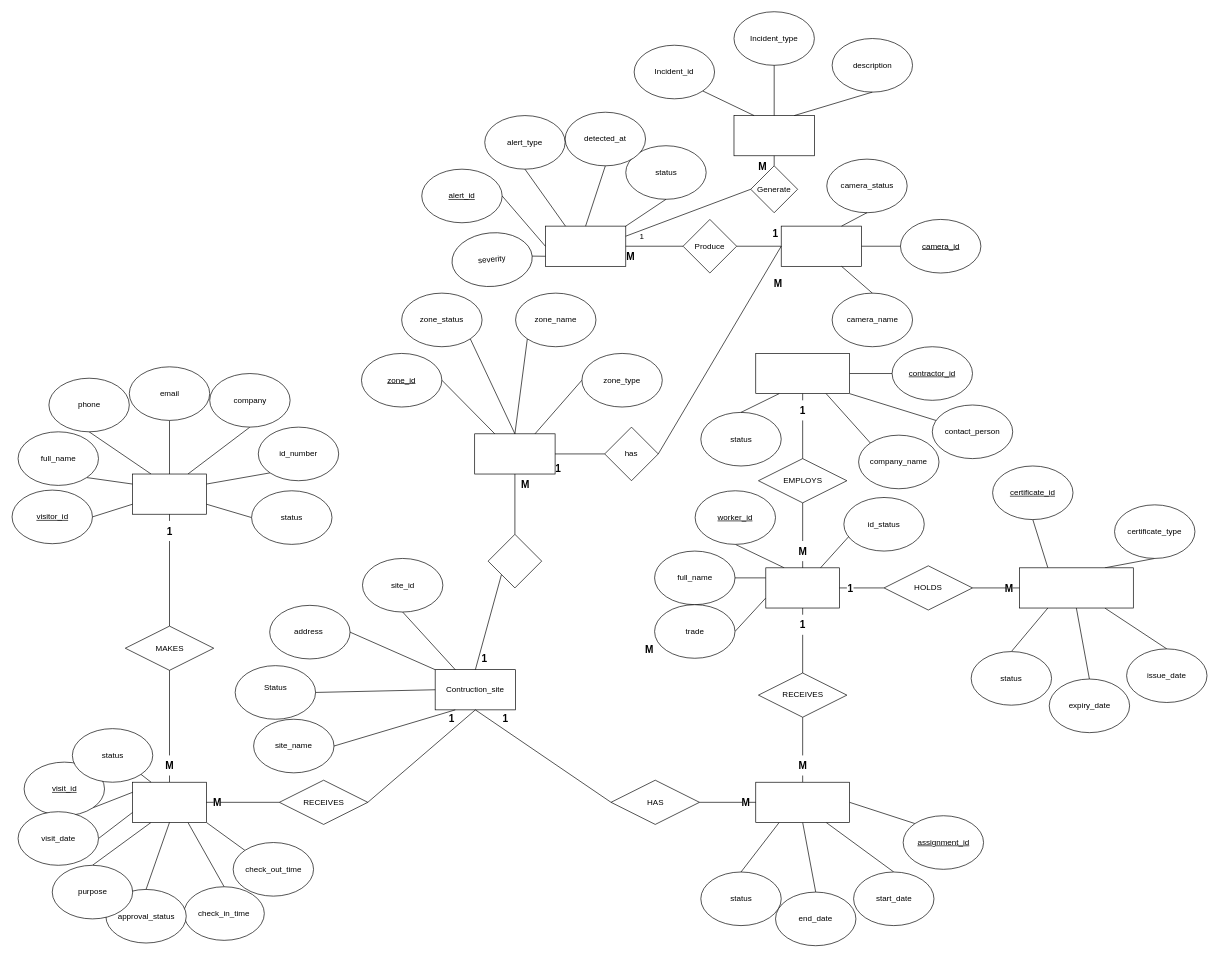
This 1219x957 diagram has some shape labels left out. The shapes that lost their labels are listed below. From the top down, each one's centre as x and y in pixels, then its label:
the point at 773,135: Incident
the point at 585,245: Safely_Alert
the point at 821,245: Cameras
the point at 802,373: CONTRACTOR
the point at 514,453: Zone
the point at 169,493: VISITOR
the point at 514,561: Contains
the point at 802,587: WORKER
the point at 1076,587: SAFETY_CERTIFICATE
the point at 169,802: VISIT
the point at 802,802: ASSIGNMENT
